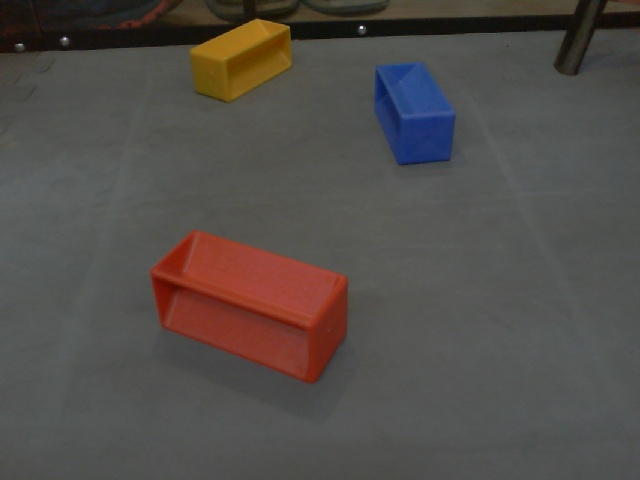BlueSample: (372, 58, 458, 168)
RedSample: (148, 228, 351, 384)
YellowSample: (188, 16, 295, 102)
